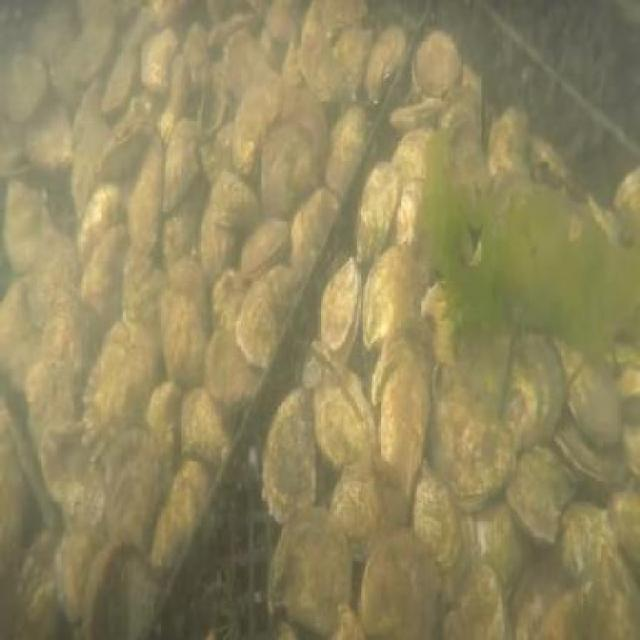Oyster- Indeterminate: (262, 388, 338, 520), (42, 425, 132, 535), (272, 511, 346, 638), (362, 532, 443, 640), (441, 388, 506, 518), (83, 322, 152, 435), (412, 273, 491, 370), (333, 468, 385, 610), (505, 444, 576, 544), (556, 556, 638, 640), (33, 234, 106, 328), (238, 269, 305, 371), (327, 108, 371, 261), (23, 324, 82, 437), (75, 541, 142, 640), (377, 345, 428, 474), (147, 464, 207, 572), (34, 526, 89, 640), (204, 326, 279, 408), (291, 1, 348, 108), (179, 388, 249, 474), (469, 497, 524, 604), (353, 161, 400, 284), (443, 158, 520, 233), (0, 175, 65, 263), (260, 123, 318, 221), (448, 546, 508, 640), (207, 164, 263, 263), (101, 462, 160, 555), (50, 2, 114, 86), (157, 289, 209, 390), (287, 188, 340, 287), (556, 501, 618, 583), (114, 249, 165, 347), (410, 29, 476, 104), (316, 261, 365, 362), (415, 467, 461, 573), (511, 559, 571, 640), (366, 247, 412, 347), (80, 228, 129, 317), (233, 87, 279, 181), (36, 427, 84, 516), (359, 18, 403, 114), (144, 382, 186, 479), (0, 283, 42, 376), (281, 85, 338, 152), (432, 99, 494, 160), (0, 57, 54, 127), (198, 211, 240, 300), (161, 128, 202, 215), (373, 457, 418, 535), (229, 36, 287, 95), (73, 73, 108, 168), (210, 270, 258, 339), (160, 198, 203, 274), (132, 150, 162, 258), (29, 102, 71, 178), (396, 175, 432, 258), (76, 181, 120, 246), (334, 24, 369, 102), (609, 490, 640, 577), (17, 18, 72, 62), (104, 49, 138, 112), (206, 8, 257, 49), (201, 120, 237, 176), (317, 0, 368, 39), (140, 28, 176, 83), (161, 57, 187, 133), (167, 258, 205, 307), (594, 332, 640, 372), (614, 356, 640, 425), (396, 132, 432, 180), (124, 8, 162, 53), (184, 25, 215, 78), (0, 126, 20, 176)
Oyster-Closed: (501, 334, 568, 463), (552, 415, 638, 493), (101, 96, 157, 172), (239, 218, 290, 279), (391, 99, 444, 133), (66, 161, 94, 219)
Oyster-Open: (557, 346, 623, 459), (312, 361, 375, 474), (526, 135, 607, 206), (191, 60, 238, 153), (486, 111, 538, 194), (599, 166, 640, 252), (419, 357, 471, 401)
